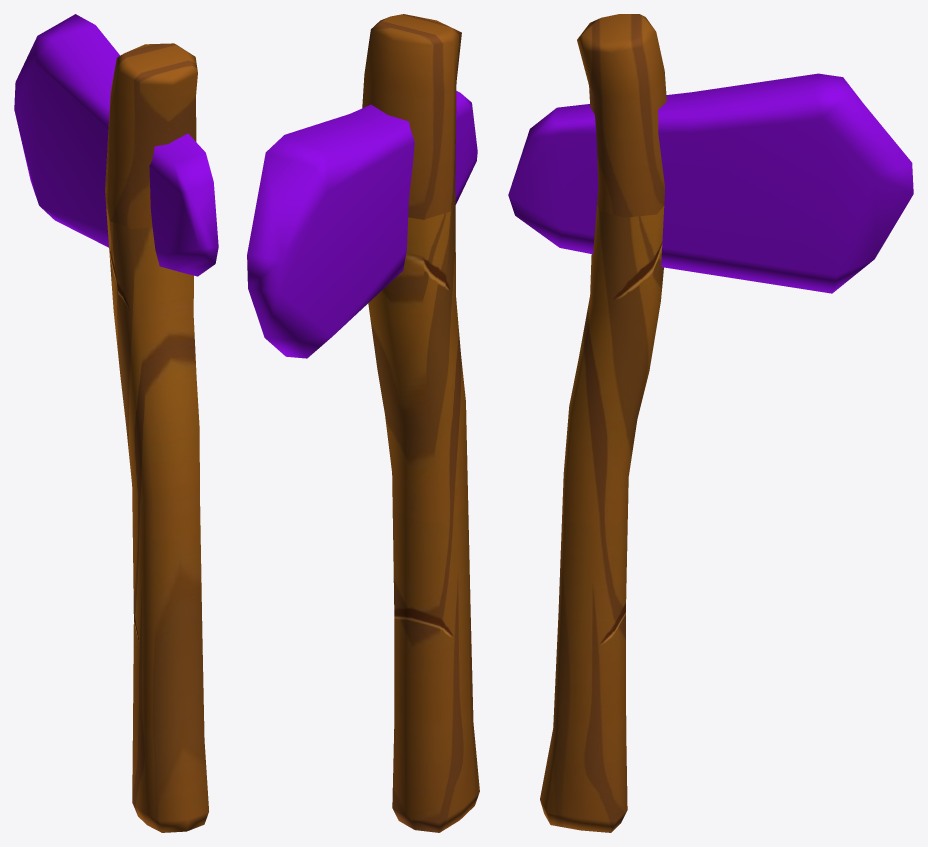
File: epic_axe.fbx
3 views of the same model, side by side, from view 1: azimuth 30°, elevation 25°; view 2: azimuth 150°, elevation 25°; view 3: azimuth 270°, elevation 25° (orthographic). The views are drawn at different scales.
Visible parts, largest first — view 1: bou__mTool.002; view 2: bou__mTool.002; view 3: bou__mTool.002.
Boxes of the visible parts, x1,y1,x2,y2 form: bou__mTool.002: (14, 14, 218, 832); bou__mTool.002: (247, 14, 479, 832); bou__mTool.002: (508, 14, 913, 832).
Size of the model in its own units: 2.43 by 20.98 by 9.66.
2 materials, 1 textured.
